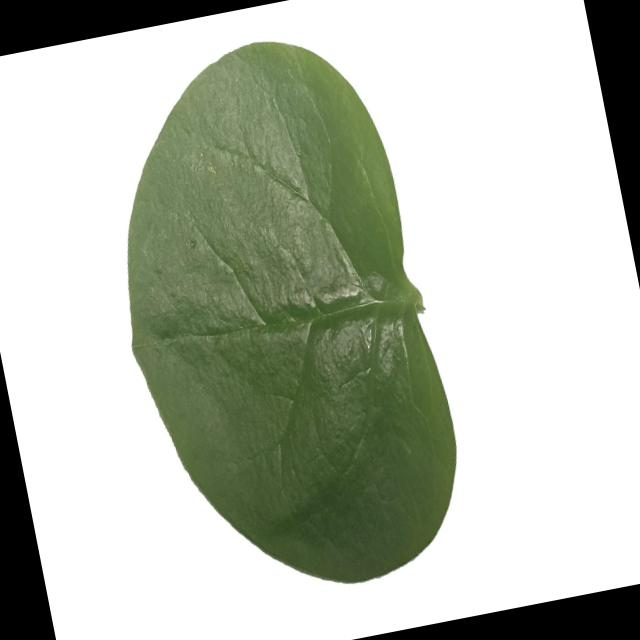Medicinal-Basale: (78, 17, 480, 616)
